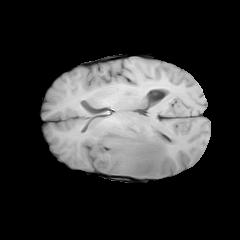glioma: (90, 123, 168, 176)
